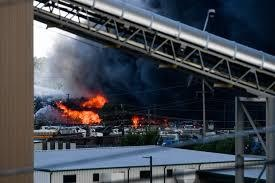fire: (56, 95, 107, 124), (131, 113, 143, 127)
